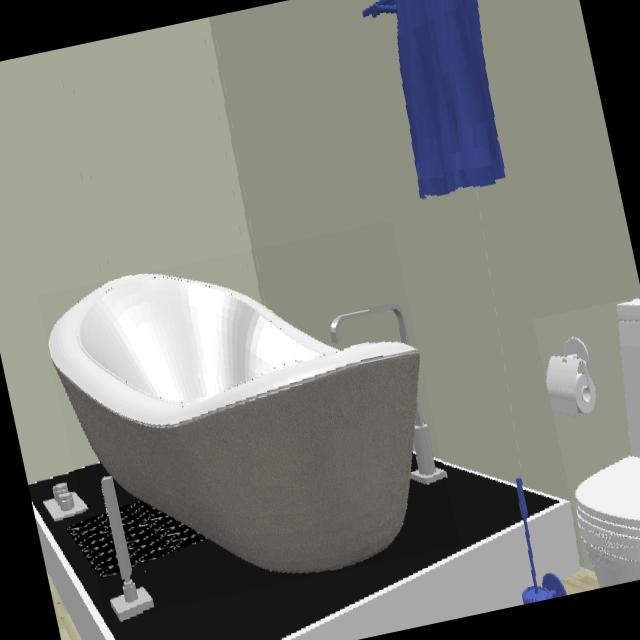bathtube: (48, 274, 426, 576)
toilet: (571, 301, 640, 587)
